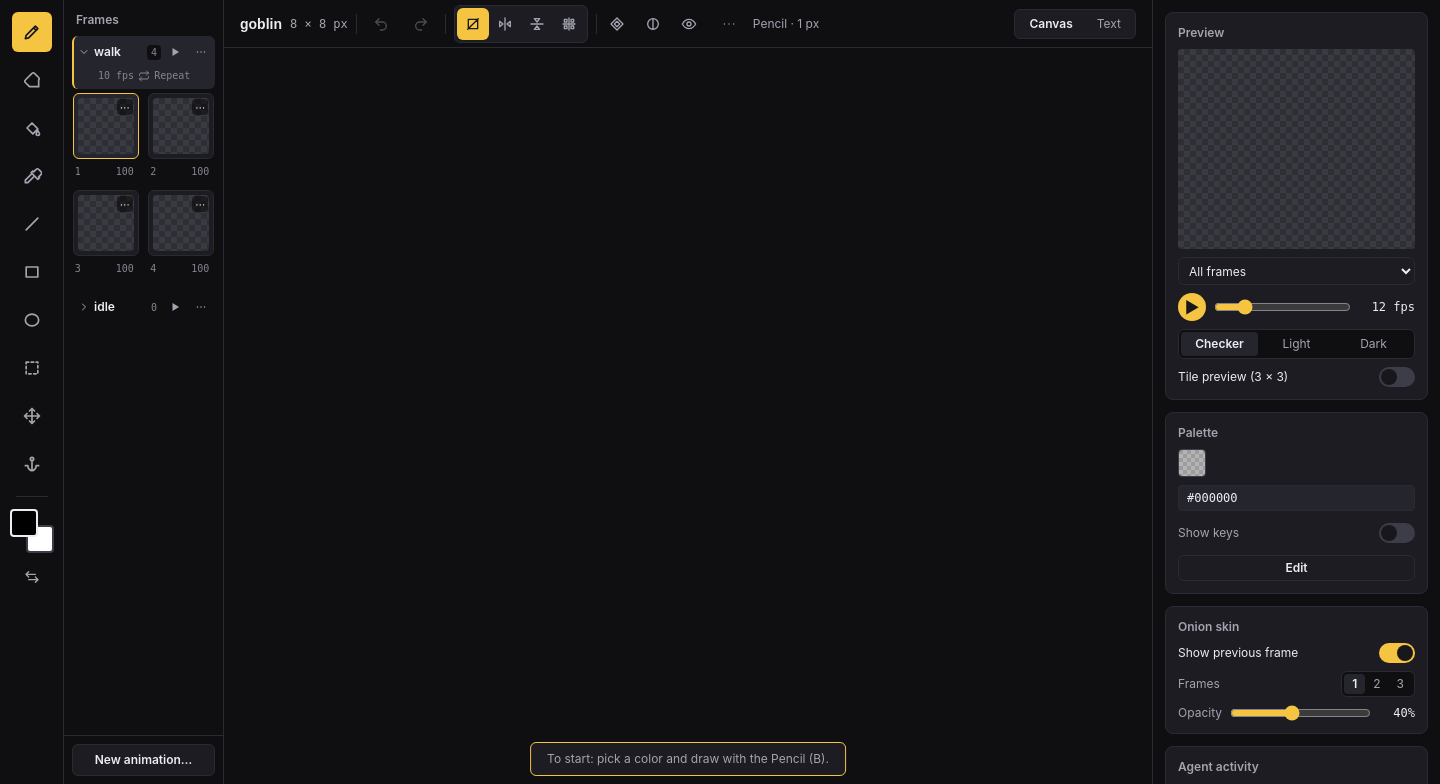
Test case: Preview › repeats a loop animation
Select "walk (4 fr.)" in the dropdown named "Animation". click: (1296, 271)
box: [1178,257,1415,285]
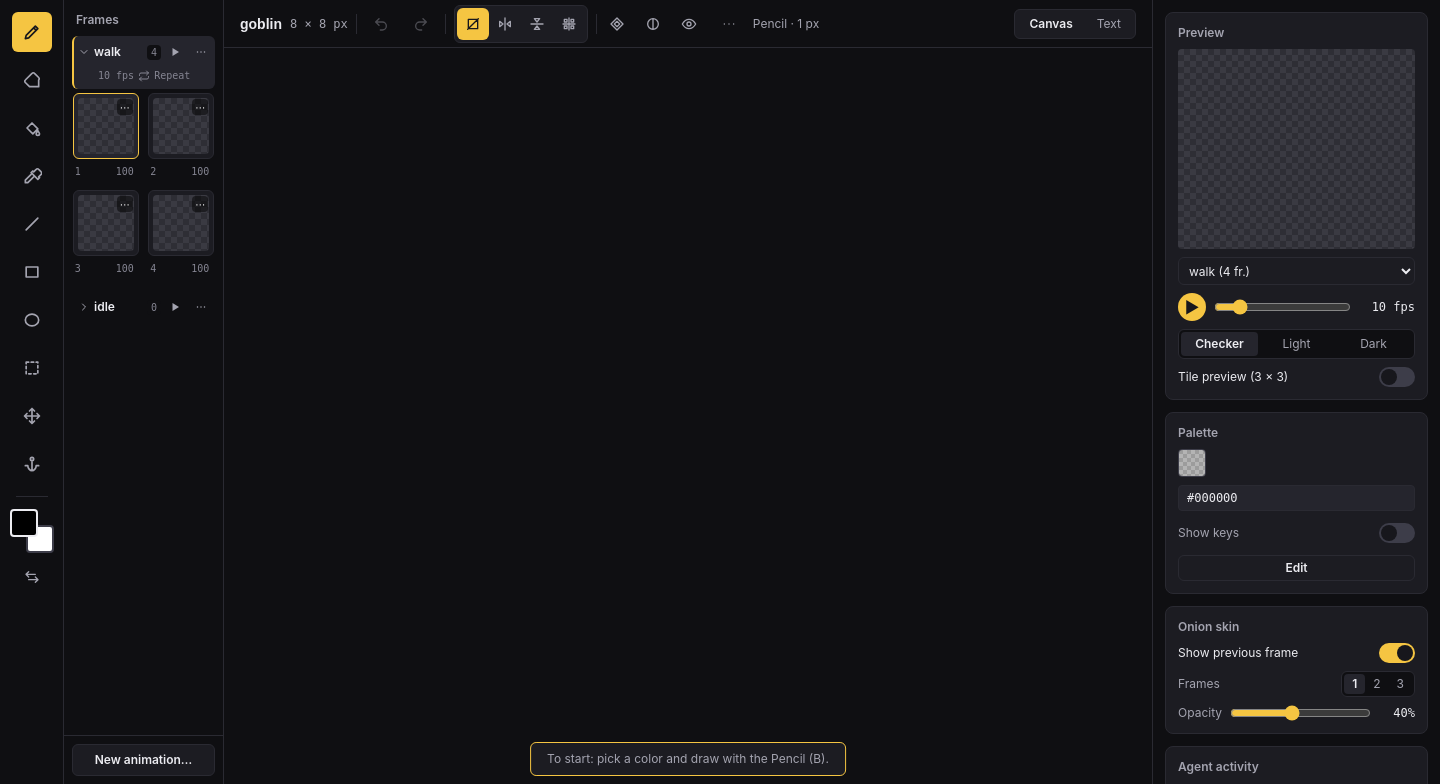
Click the button named "Play". click: (1192, 307)
box: [1178,293,1206,321]
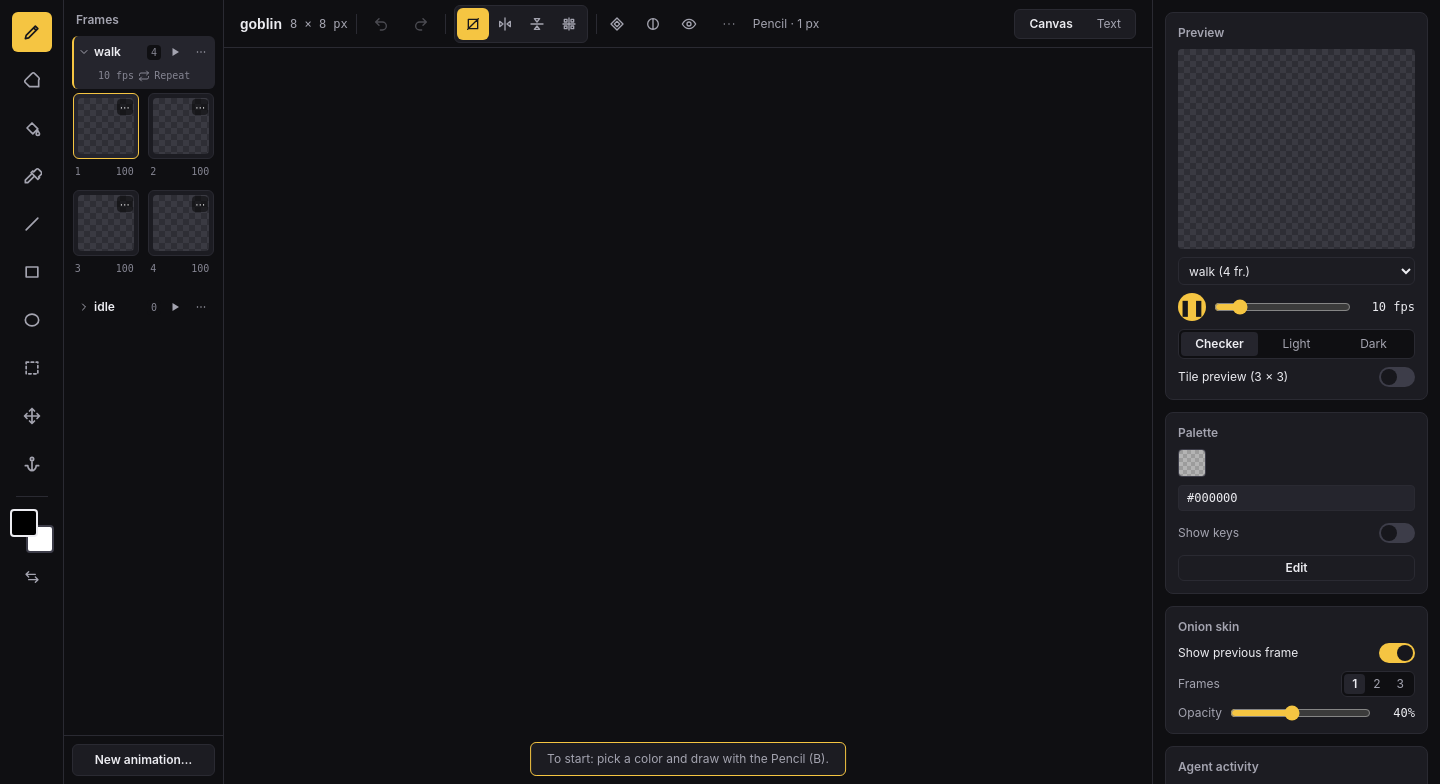
Expected: the button named "Pause" is shown, [1178,293,1206,321]
